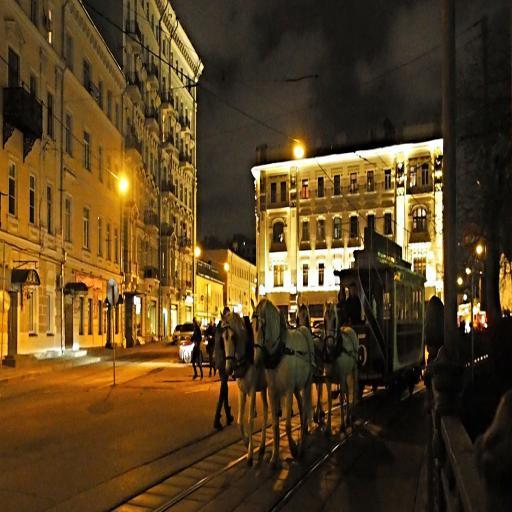horse: (250, 294, 315, 466), (218, 302, 283, 466), (320, 292, 358, 436), (294, 298, 326, 435)
